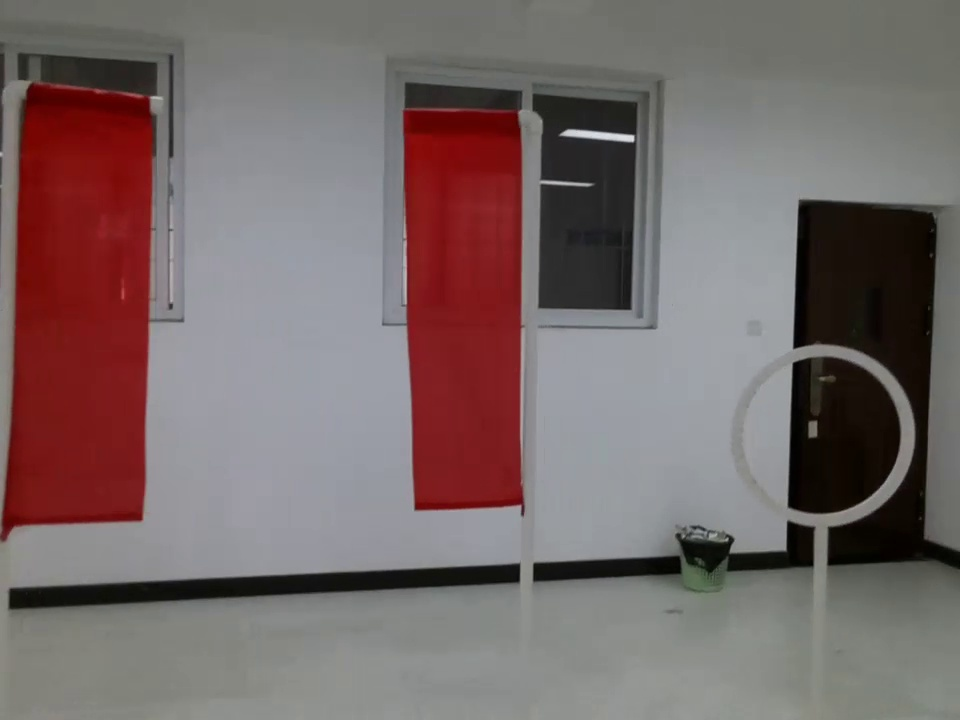qi: (1, 69, 176, 579), (393, 102, 544, 545)
quan: (718, 339, 920, 569)
